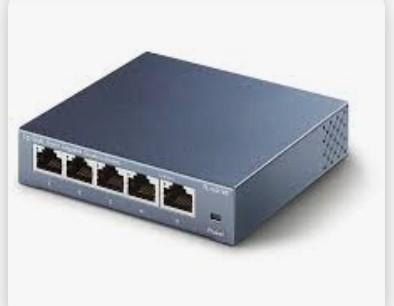NetworkSwitch: (18, 52, 349, 247)
